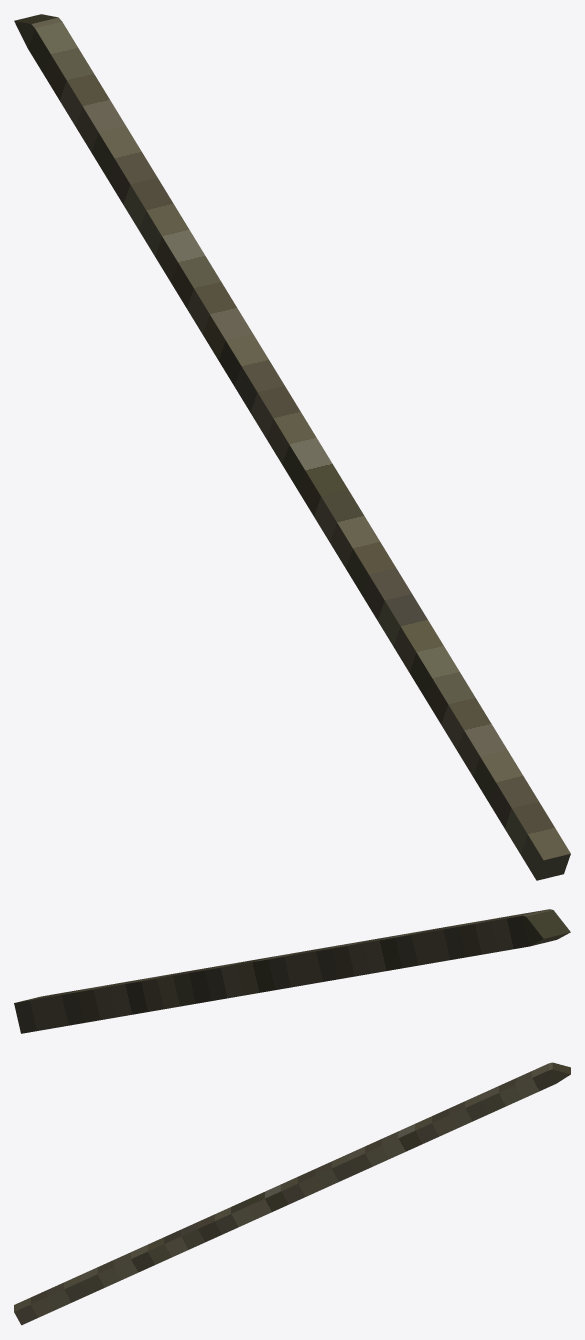
Rendered from rope_2wide.obj.
3 views of the same model, one above another, from view 1: azimuth 30°, elevation 25°; view 2: azimuth 210°, elevation 25°; view 3: azimuth 270°, elevation 25° (orthographic). The views are drawn at different scales.
Visible parts, largest first — view 1: cube; view 2: cube; view 3: cube.
Part boxes in pixels (bbox=[...]): cube: bbox=[14, 14, 570, 880]; cube: bbox=[14, 909, 570, 1033]; cube: bbox=[14, 1062, 570, 1325].
Bounding box in the file's own units: 0.0625 × 1.06 × 2.1.
